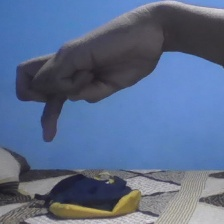P: (15, 1, 167, 145)
